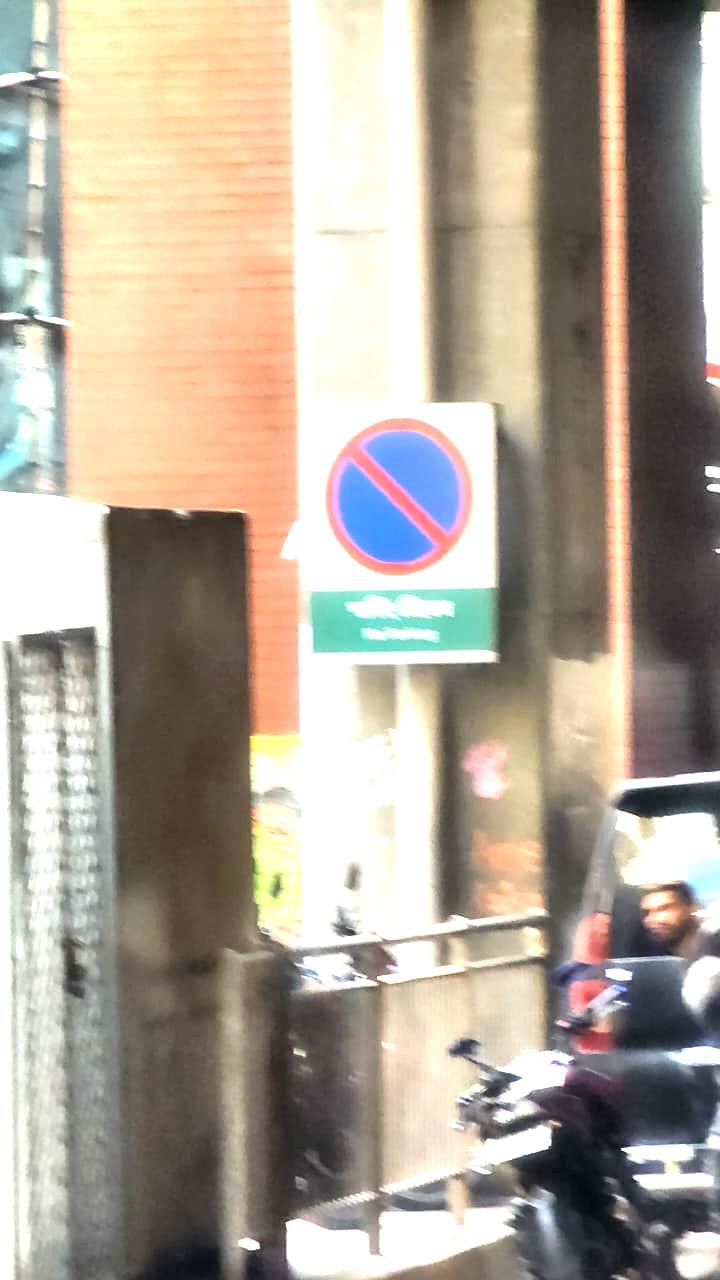No Parking: (285, 394, 505, 660)
